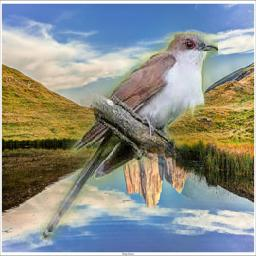Cuckoo: (40, 32, 218, 240)
